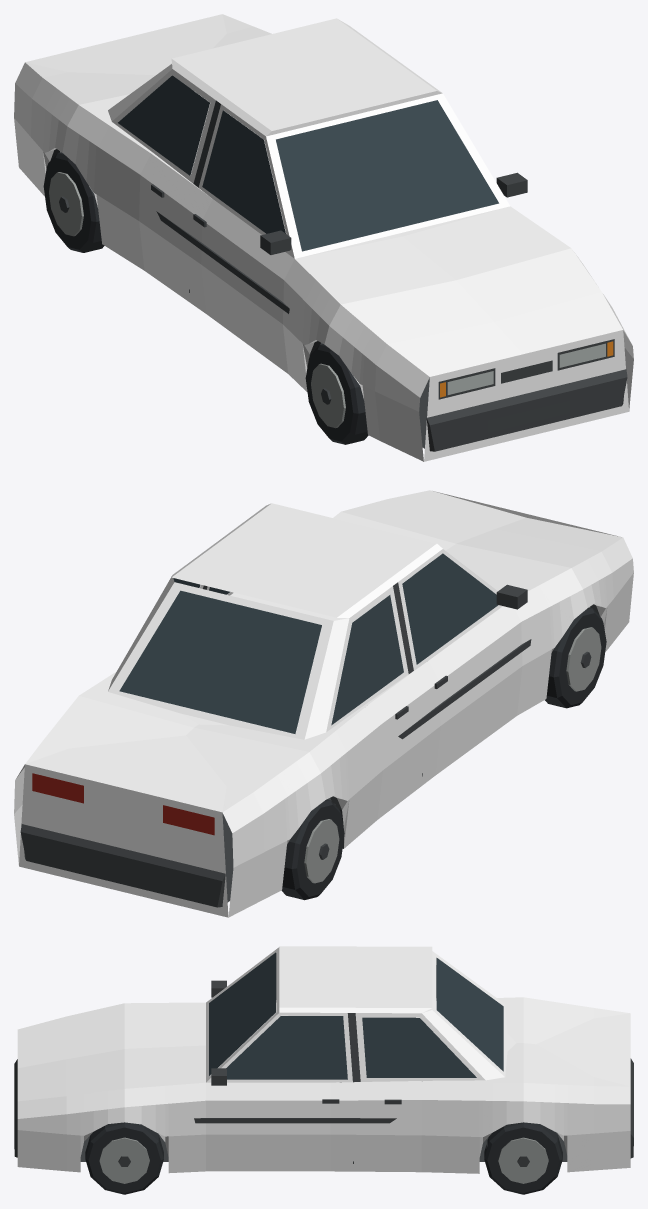
The model's file is hoshino_tenma.glb.
3 views of the same model, one above another, from view 1: azimuth 30°, elevation 25°; view 2: azimuth 150°, elevation 25°; view 3: azimuth 270°, elevation 25° (orthographic). The views are drawn at different scales.
Visible parts, largest first — view 1: hoshino_tenma; view 2: hoshino_tenma; view 3: hoshino_tenma.
Part boxes in pixels (<box>): hoshino_tenma: <box>14,14,633,461</box>; hoshino_tenma: <box>14,490,633,917</box>; hoshino_tenma: <box>14,946,633,1194</box>.
Size of the model in its own units: 1.78 by 1.46 by 4.77.
8 materials, 1 textured.
